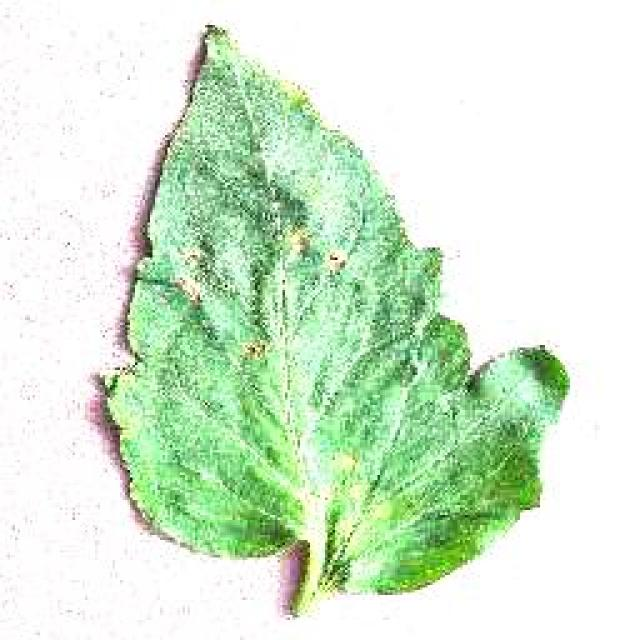Tomato___Target_Spot: (108, 30, 565, 608)
